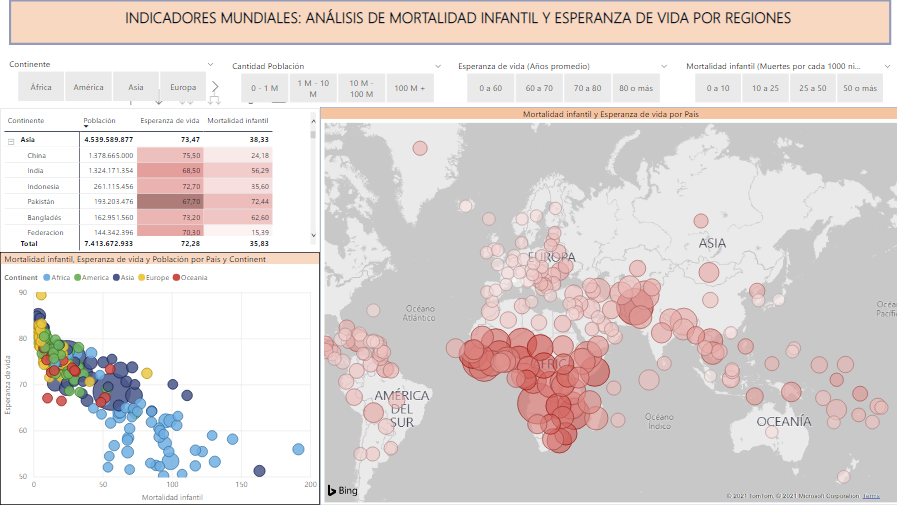

The page's visual inventory and layout, read from the dashboard file:
{"tool":"powerbi","page":{"name":"Indicadores Mundiales ","canvas":[1280,720],"ordinal":1},"visuals":[{"type":"basicShape","box":[0,0,1280.5,66.3],"z":0},{"type":"pivotTable","fields":{"Values":["Sum(Population.Población)","Avg(Esperanza de vida.Esperanza de vida)","Avg(Mortalidad infantil.Mortalidad infantil)"],"Rows":["Paises.Jerarquía.Continente","Paises.Jerarquía.Pais"]},"box":[0,154.7,454.7,206.8],"z":1000},{"type":"map","fields":{"Category":["Paises.Pais"],"Size":["Avg(Mortalidad infantil.Mortalidad infantil)"]},"box":[454.7,153.2,825.8,566.8],"z":2000},{"type":"slicer","fields":{"Values":["Population.Cantidad Población "]},"box":[317.4,80.5,323.7,72.6],"z":3000},{"type":"slicer","fields":{"Values":["Paises.Continente"]},"box":[0,78.9,317.4,74.2],"z":4000},{"type":"slicer","fields":{"Values":["Esperanza de vida.Esperanza de vida (Años promedio)"]},"box":[639.5,80.5,323.7,72.6],"z":5000},{"type":"slicer","fields":{"Values":["Mortalidad infantil.Mortalidad infantil (Muertes por cada 1000 niños)"]},"box":[963.2,80.5,317.4,72.6],"z":6000},{"type":"scatterChart","fields":{"X":["Avg(Mortalidad infantil.Mortalidad infantil)"],"Y":["Avg(Esperanza de vida.Esperanza de vida)"],"Series":["Countries.Continent"],"Size":["Sum(Población.Población)"],"Category":["Paises.Jerarquía.Continente","Paises.Jerarquía.Pais"]},"box":[0,360,454.7,360],"z":7000},{"type":"textbox","box":[72.6,6.3,1158.9,53.7],"z":8000}]}

Visuals, with their boxes in screenshot pixels (x1, y1, x2, y2), scaled from the page's 1280x720 canvas onto the 897x505 screenshot:
basicShape: bbox(0, 0, 896, 47)
pivotTable - Sum(Population.Población) x Avg(Esperanza de vida.Esperanza de vida): bbox(0, 109, 319, 254)
map - Paises.Pais x Avg(Mortalidad infantil.Mortalidad infantil): bbox(319, 107, 896, 504)
slicer - Population.Cantidad Población : bbox(222, 56, 449, 107)
slicer - Paises.Continente: bbox(0, 55, 222, 107)
slicer - Esperanza de vida.Esperanza de vida (Años promedio): bbox(448, 56, 675, 107)
slicer - Mortalidad infantil.Mortalidad infantil (Muertes por cada 1000 niños): bbox(675, 56, 896, 107)
scatterChart - Avg(Mortalidad infantil.Mortalidad infantil) x Avg(Esperanza de vida.Esperanza de vida): bbox(0, 252, 319, 504)
textbox: bbox(51, 4, 863, 42)
